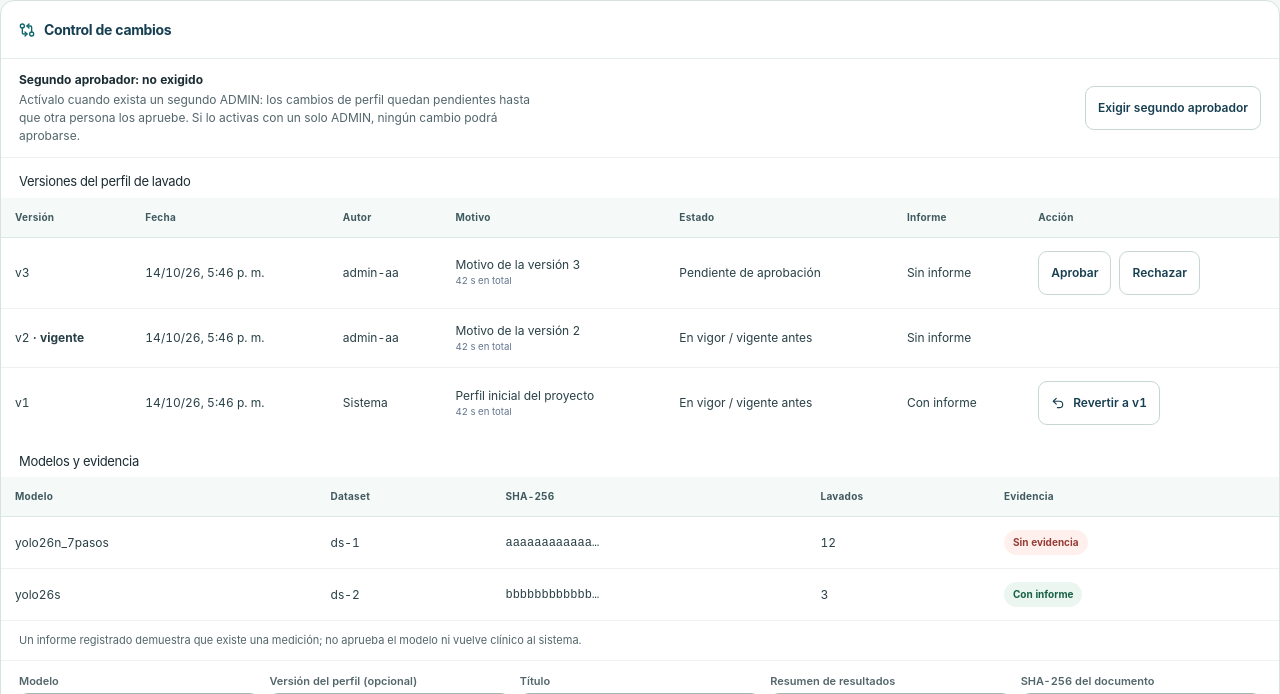
Test: AdminChangeControlPanel › requires a reason before rolling back and refreshes afterwards
Click the button "Revertir a v1".
click(1099, 403)  # box [1038,381,1160,425]
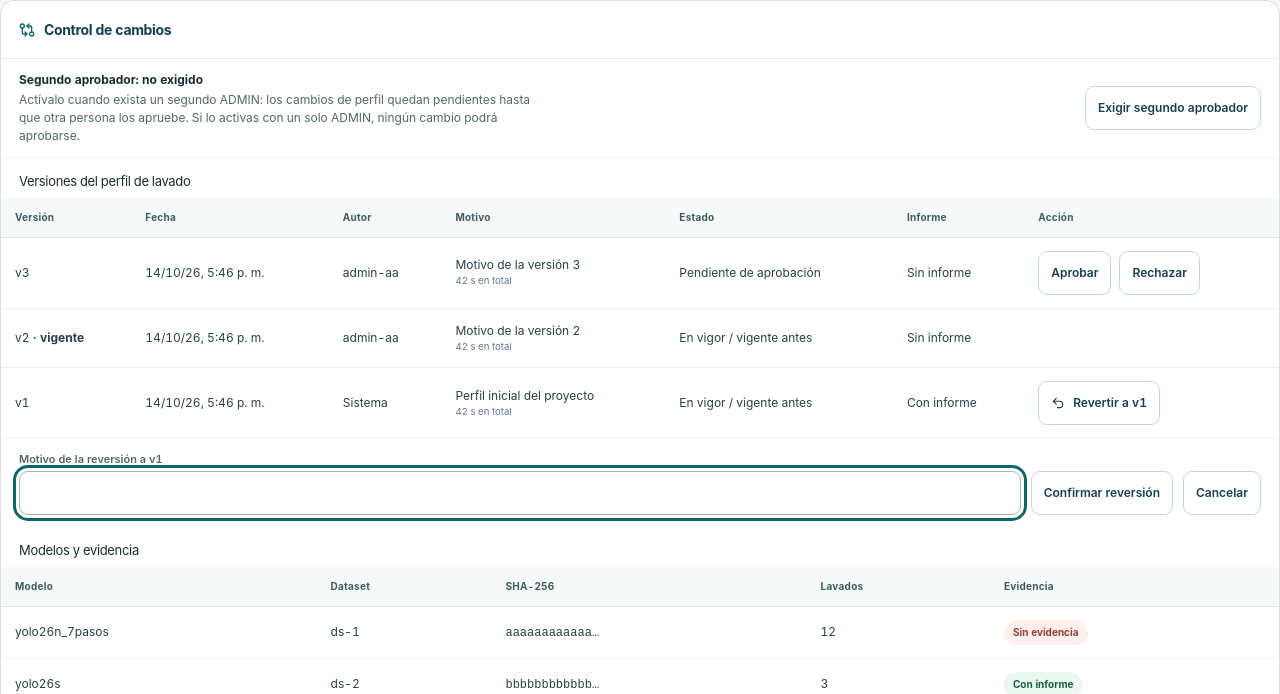
Type "Los 8 s alargaban el lavado" into the field labelled "Motivo de la reversión a v1".
click(520, 493); type("Los 8 s alargaban el lavado")  # box [19,471,1021,515]
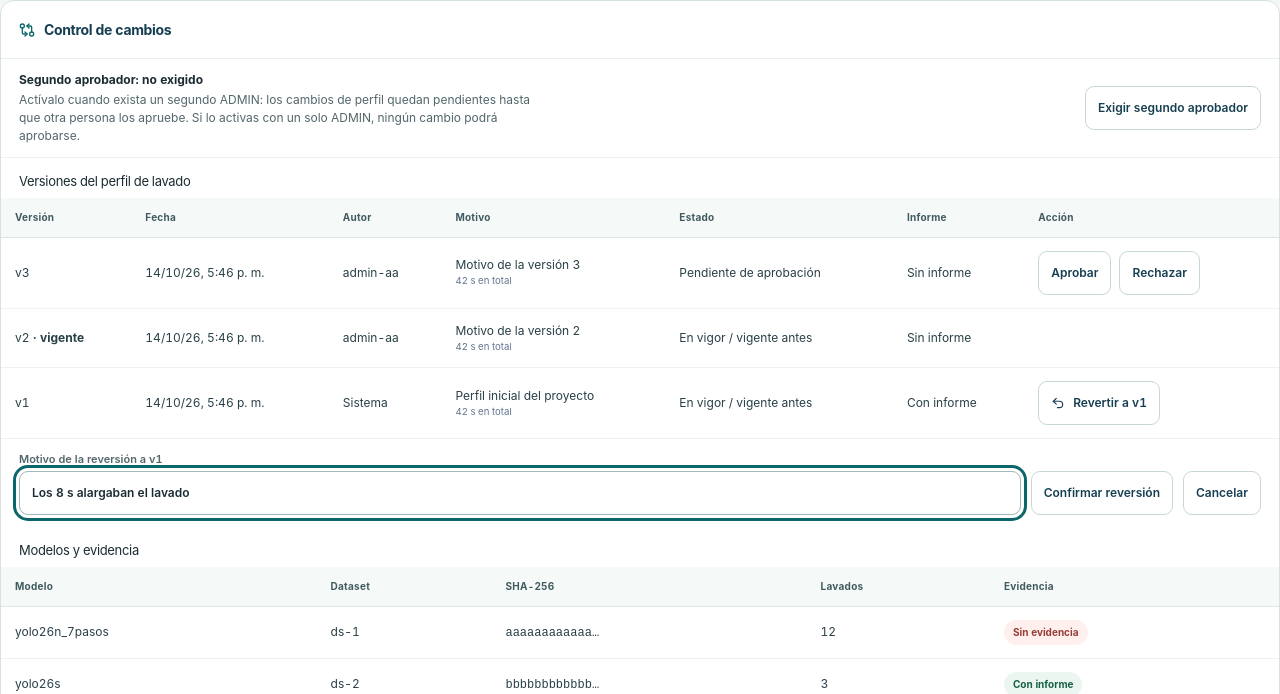
Click the button "Confirmar reversión".
click(1102, 493)  # box [1031,471,1173,515]
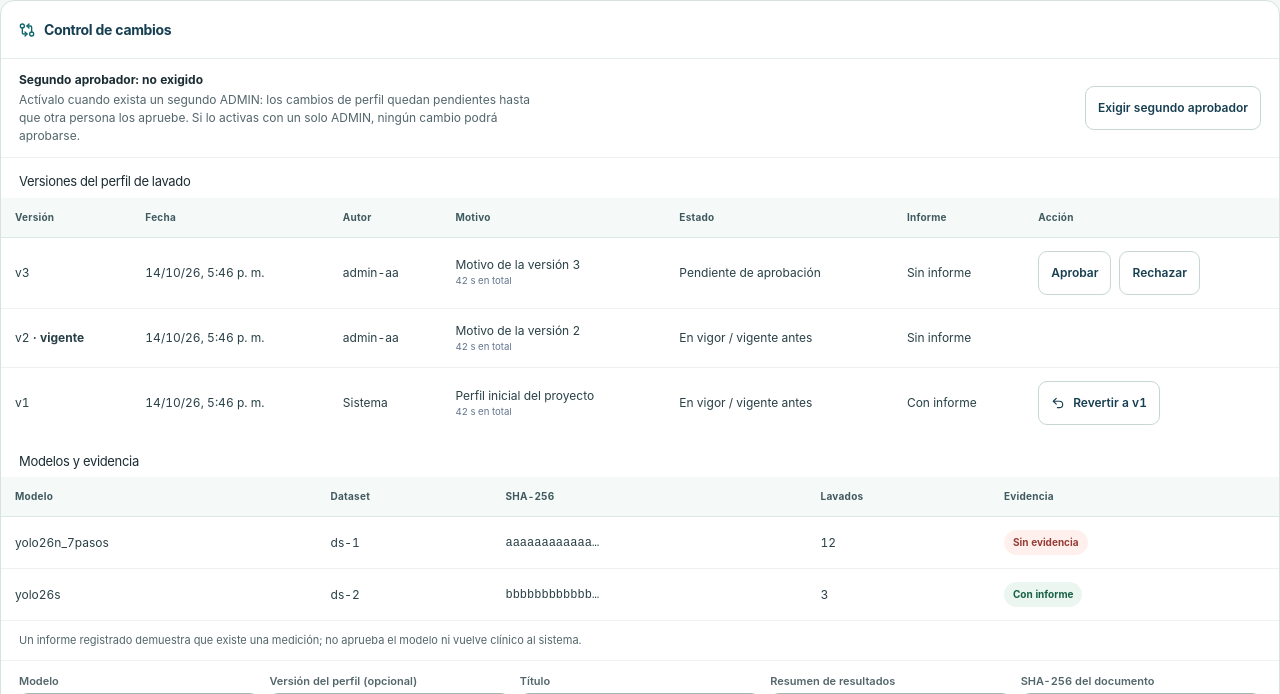
Check: the label labelled "Motivo de la reversión" is gone
